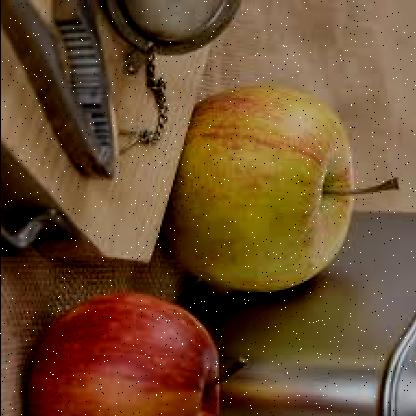apple: (165, 85, 355, 281), (29, 288, 222, 414)
